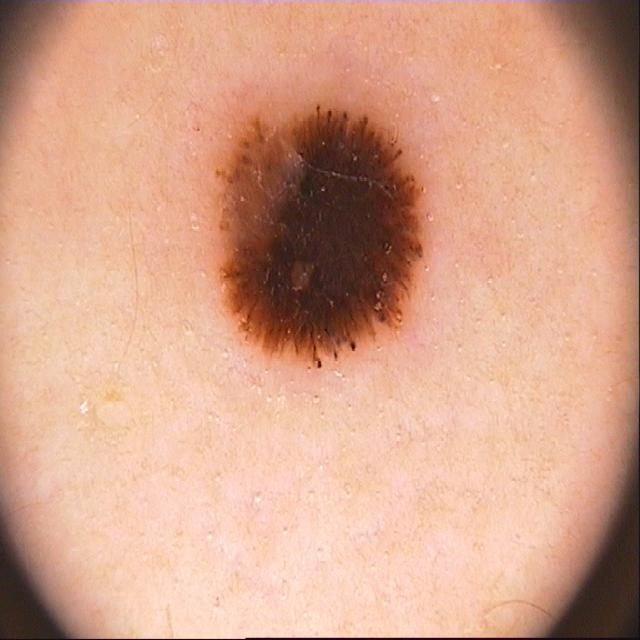Melanoma: (183, 72, 445, 393)
